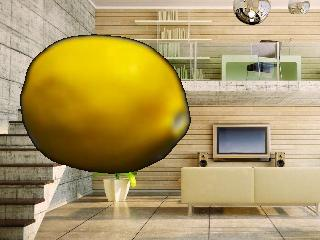lemon: (23, 35, 189, 172)
